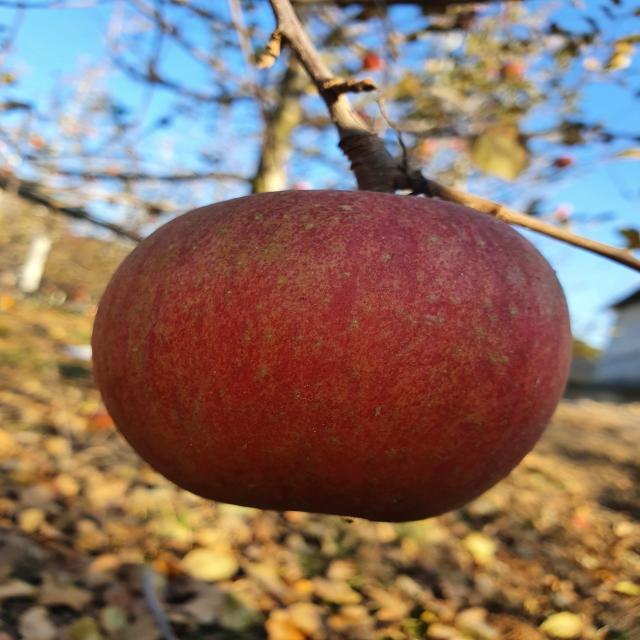fresh: (80, 179, 581, 530)
